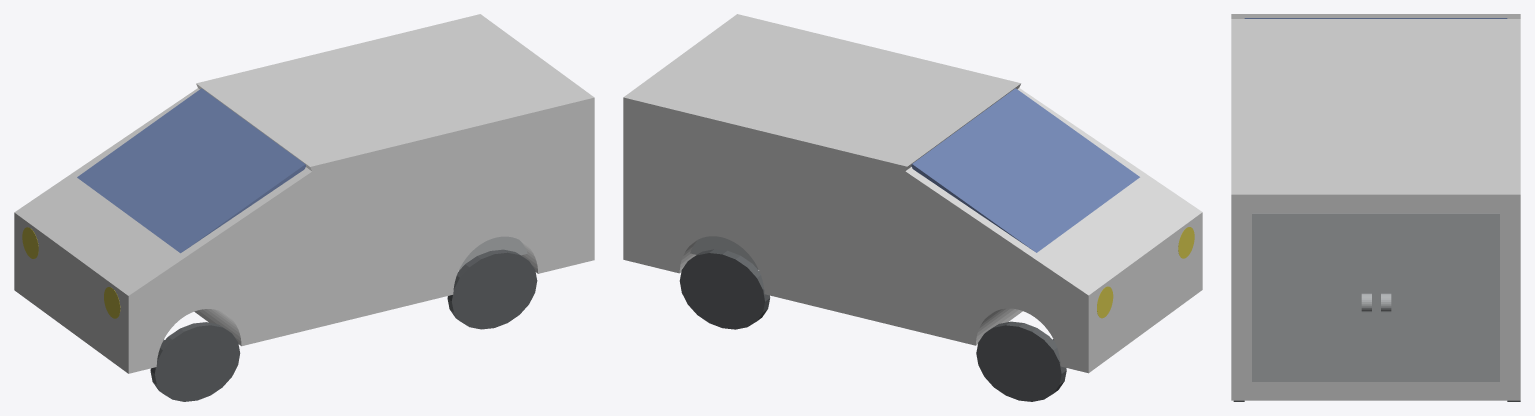
File: Exquisite Kieran.glb
3 renders of one model, left to right at view 1: azimuth 30°, elevation 25°; view 2: azimuth 150°, elevation 25°; view 3: azimuth 270°, elevation 25°, orthographic. The views are drawn at different scales.
Parts seen in each view (by area): view 1: Mesh_Mesh_head_geo.001_lambert2SG.001; view 2: Mesh_Mesh_head_geo.001_lambert2SG.001; view 3: Mesh_Mesh_head_geo.001_lambert2SG.001.
Part boxes in pixels (box(x1,y1,x2,y2)): Mesh_Mesh_head_geo.001_lambert2SG.001: box(14, 14, 594, 401); Mesh_Mesh_head_geo.001_lambert2SG.001: box(623, 14, 1202, 401); Mesh_Mesh_head_geo.001_lambert2SG.001: box(1231, 14, 1520, 401).
Bounding box in the file's own units: 33.51 × 14 × 14.
